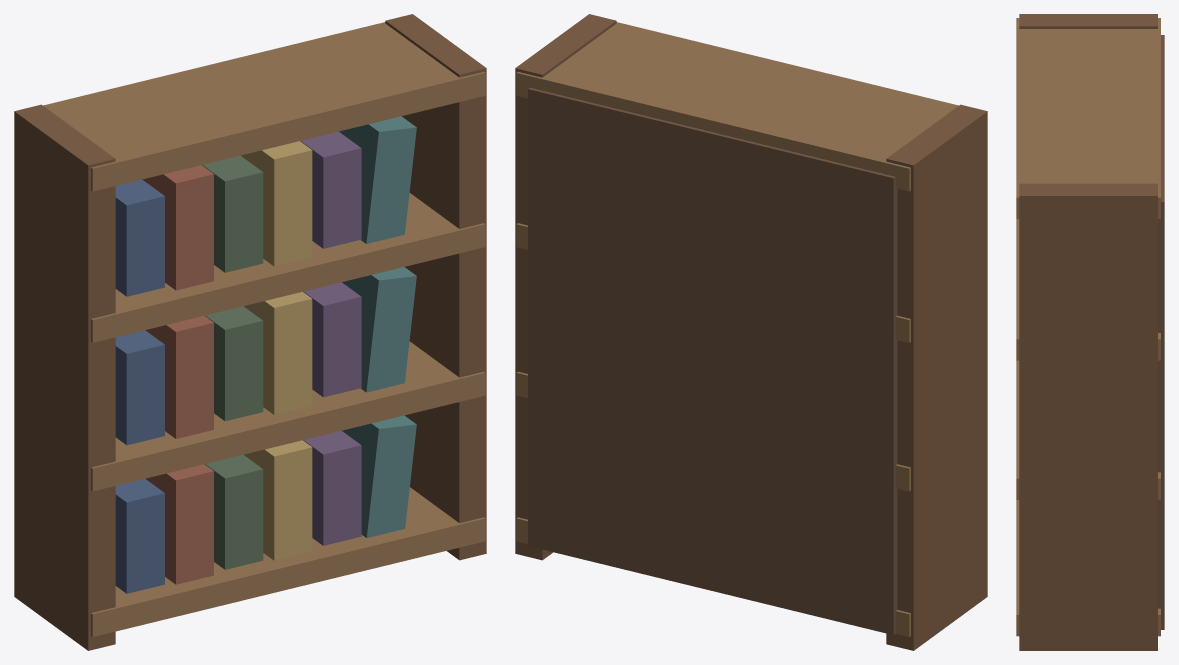
The model's file is one-more-chapter.glb.
3 renders of one model, left to right at view 1: azimuth 30°, elevation 25°; view 2: azimuth 150°, elevation 25°; view 3: azimuth 270°, elevation 25°, orthographic. The views are drawn at different scales.
Parts seen in each view (by area): view 1: reading; view 2: reading; view 3: reading.
Part boxes in pixels (x1,y1,x2,y2): reading: (14,14,486,650); reading: (515,14,987,650); reading: (1016,14,1164,650).
Size of the model in its own units: 1.46 by 1.7 by 0.5025.
